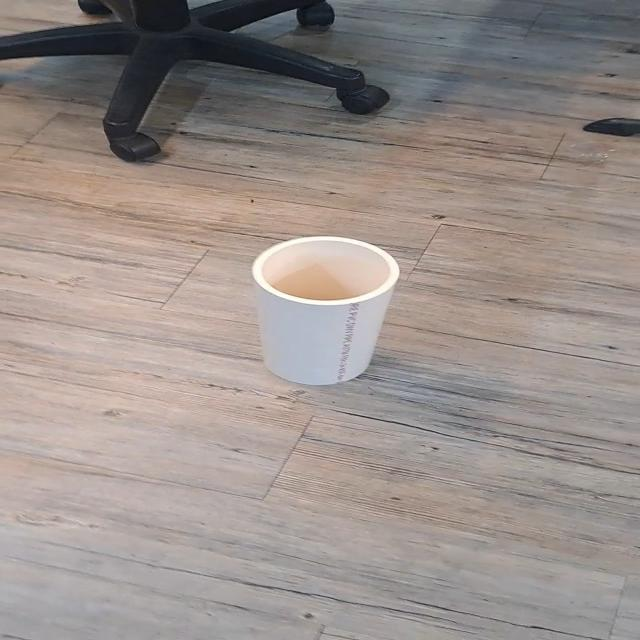CORAL: (234, 229, 412, 393)
